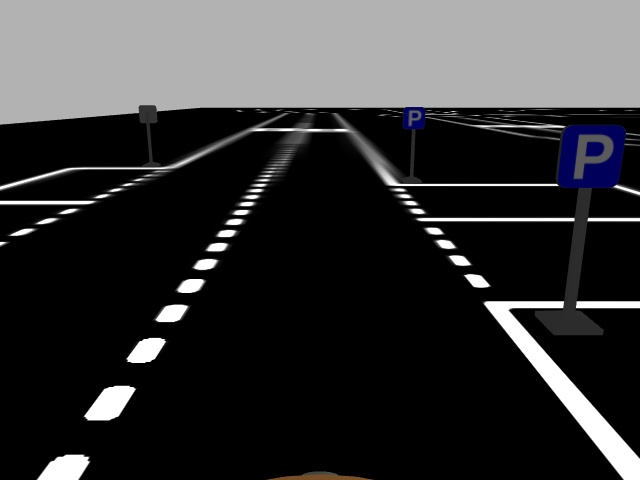parking: (555, 125, 626, 186), (401, 105, 425, 128)
